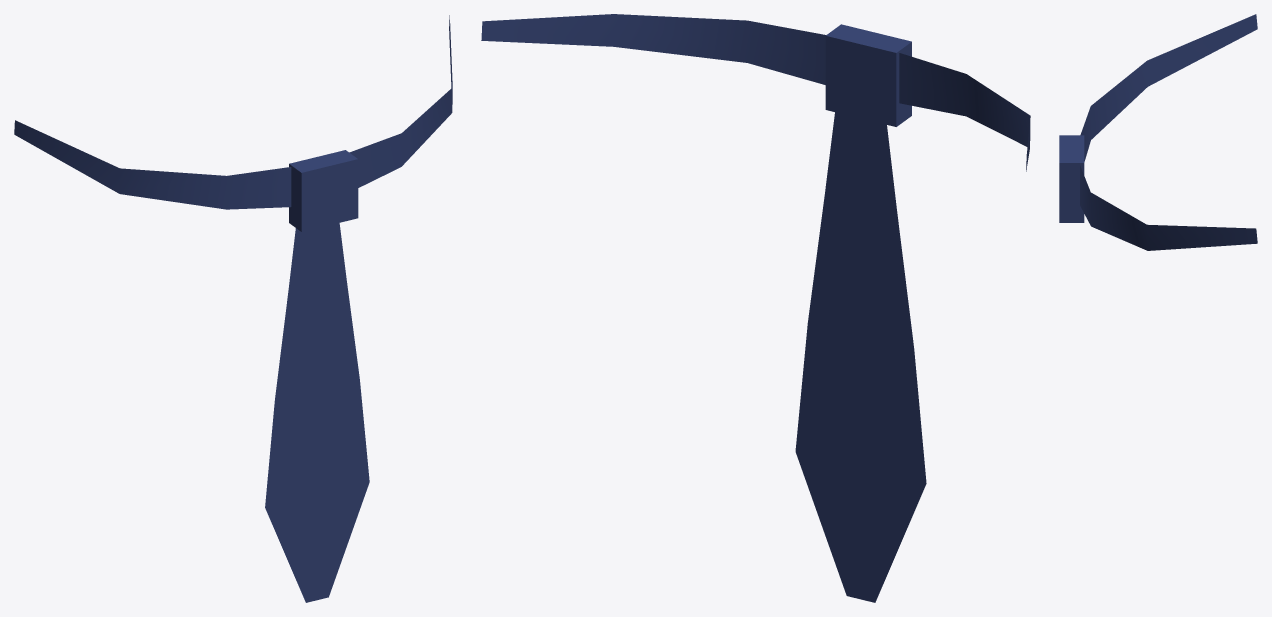
The model's file is cravatta.fbx.
3 renders of one model, left to right at view 1: azimuth 30°, elevation 25°; view 2: azimuth 150°, elevation 25°; view 3: azimuth 270°, elevation 25°, orthographic. The views are drawn at different scales.
Visible parts, largest first — view 1: Cravatta2; view 2: Cravatta2; view 3: Cravatta2.
Part boxes in pixels (x1,y1,x2,y2): Cravatta2: (14,15,452,602); Cravatta2: (481,14,1030,602); Cravatta2: (1059,14,1257,250).
Bounding box in the file's own units: 1.54 × 1.59 × 0.6011.
